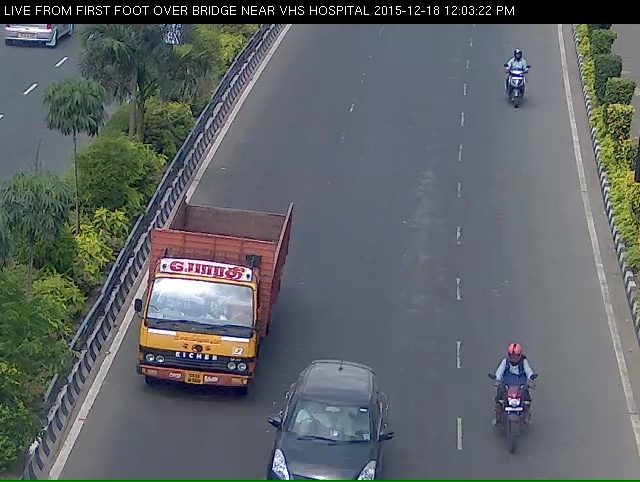Bus: (139, 210, 253, 413)
Car: (277, 392, 385, 475)
Person: (489, 356, 534, 467), (499, 52, 544, 121)
